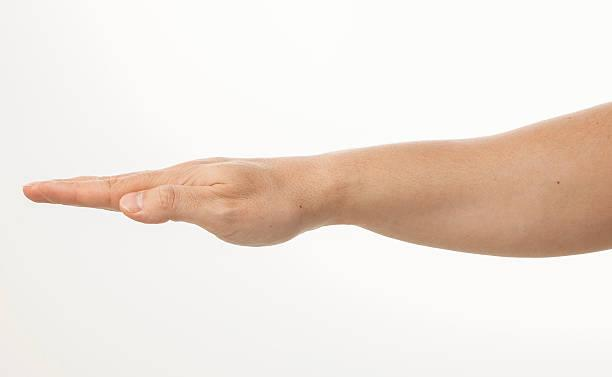paper: (13, 151, 311, 249)
